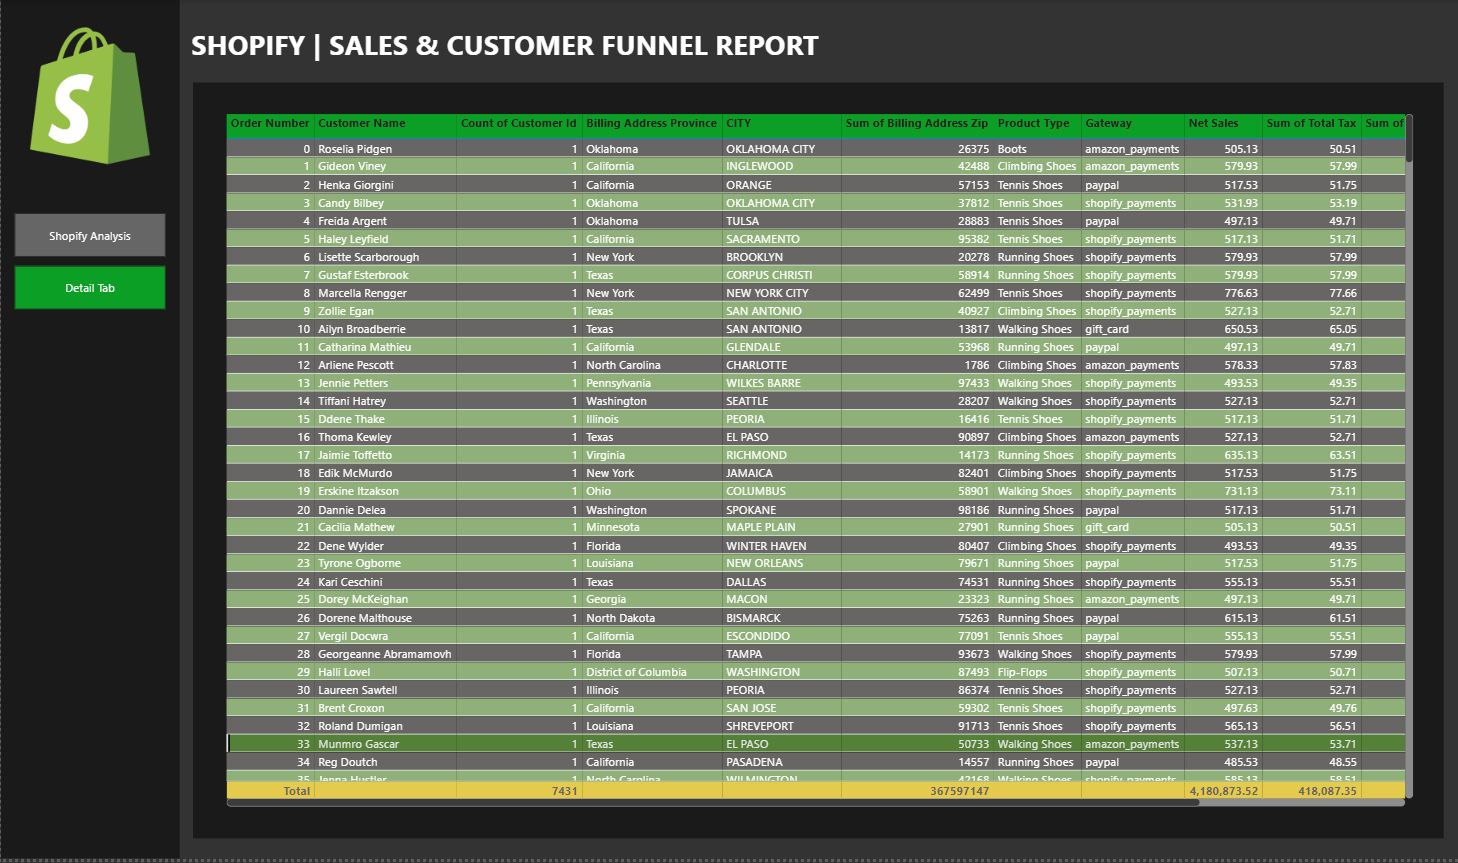

The page's visual inventory and layout, read from the dashboard file:
{"tool":"powerbi","page":{"name":"Detail Tab","canvas":[1700,1000],"ordinal":1},"visuals":[{"type":"shape","box":[0,-8,208,1008],"z":0},{"type":"textbox","box":[216,24,768,120],"z":1000},{"type":"shape","box":[224,96,1456,880],"z":2000},{"type":"image","box":[16,32,176,160],"z":3000},{"type":"tableEx","fields":{"Values":["shopify_sales.Order Number","shopify_sales.Customer Name","CountNonNull(shopify_sales.Customer Id)","shopify_sales.Billing Address Province","shopify_sales.CITY","Sum(shopify_sales.Billing Address Zip)","shopify_sales.Product Type","shopify_sales.Gateway","shopify_sales.Net Sales","Sum(shopify_sales.Total Tax)","Sum(shopify_sales.Total Price Usd)","shopify_sales.Invoice Date.Variation.Date Hierarchy.Year"]},"box":[256,128,1392,816],"z":4000},{"type":"pageNavigator","box":[16,248,176,112],"z":4001}]}

Visuals, with their boxes on the page's 1700x1000 design canvas (x1, y1, x2, y2). These are canvas units, not pixel positions in the 1458x863 screenshot, which may show the page scaled, cropped or inside an application window:
shape: <region>0, -8, 208, 1000</region>
textbox: <region>216, 24, 984, 144</region>
shape: <region>224, 96, 1680, 976</region>
image: <region>16, 32, 192, 192</region>
tableEx - shopify_sales.Order Number x shopify_sales.Customer Name: <region>256, 128, 1648, 944</region>
pageNavigator: <region>16, 248, 192, 360</region>
